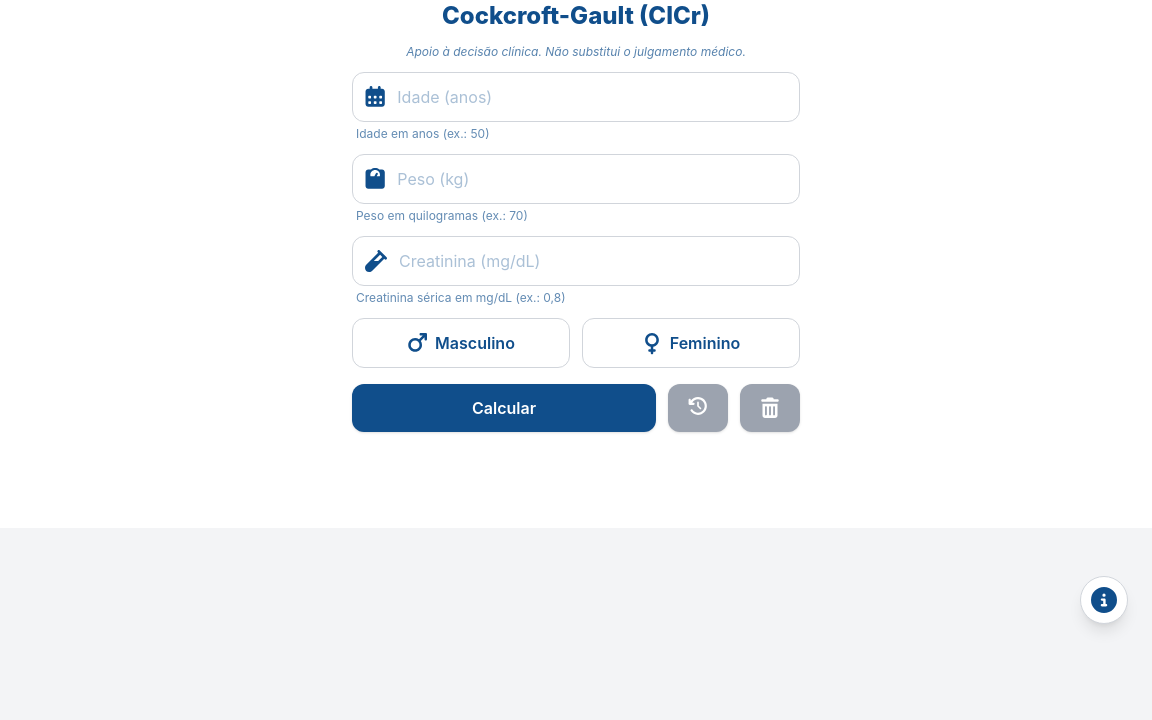
Test: Cockcroft-Gault (interface) › CG-2: menor de 18 anos calcula e mostra o aviso
Type "10" into the field with placeholder "Idade (anos)" at (592, 97), box [397,73,787,121]
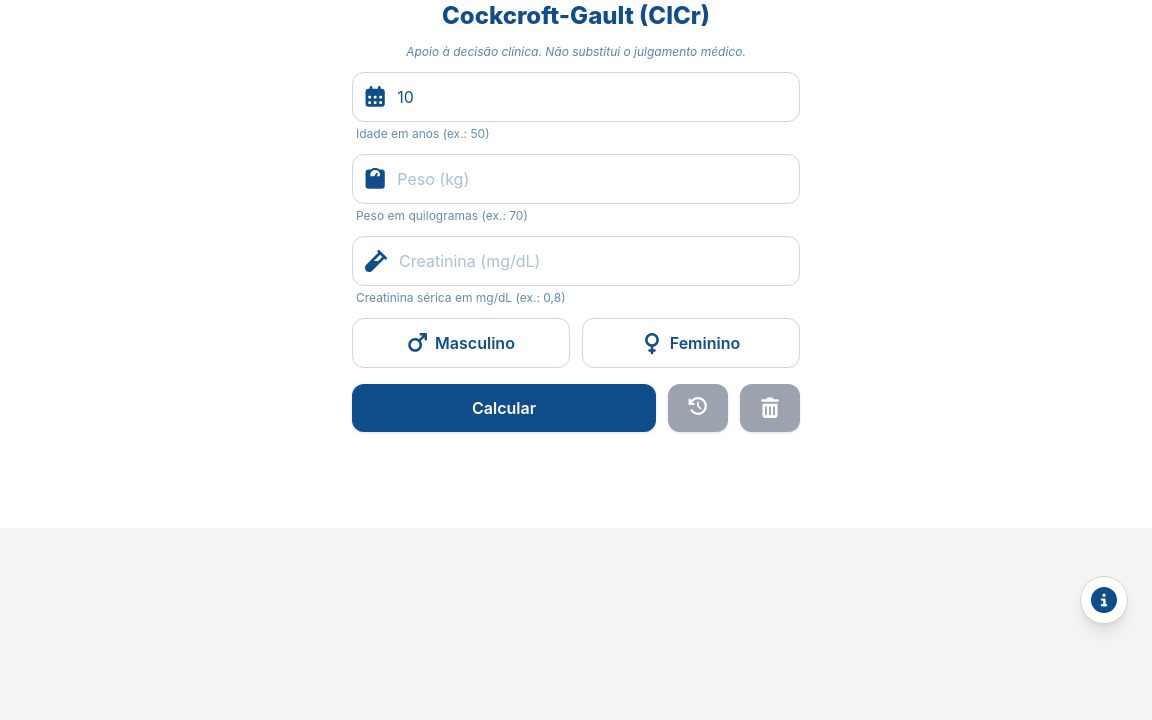
Type "30" into the field with placeholder "Peso (kg)" at (592, 179), box [397,155,787,203]
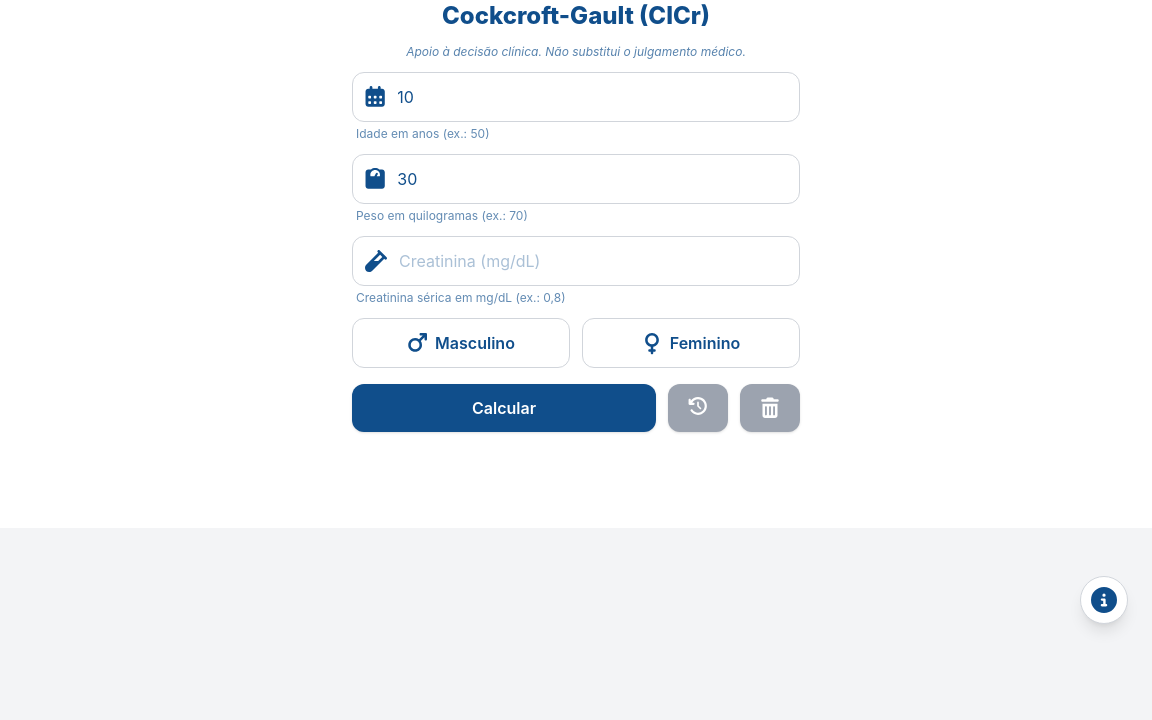
Type "0.6" into the field with placeholder "Creatinina (mg/dL)" at (593, 261), box [399,237,787,285]
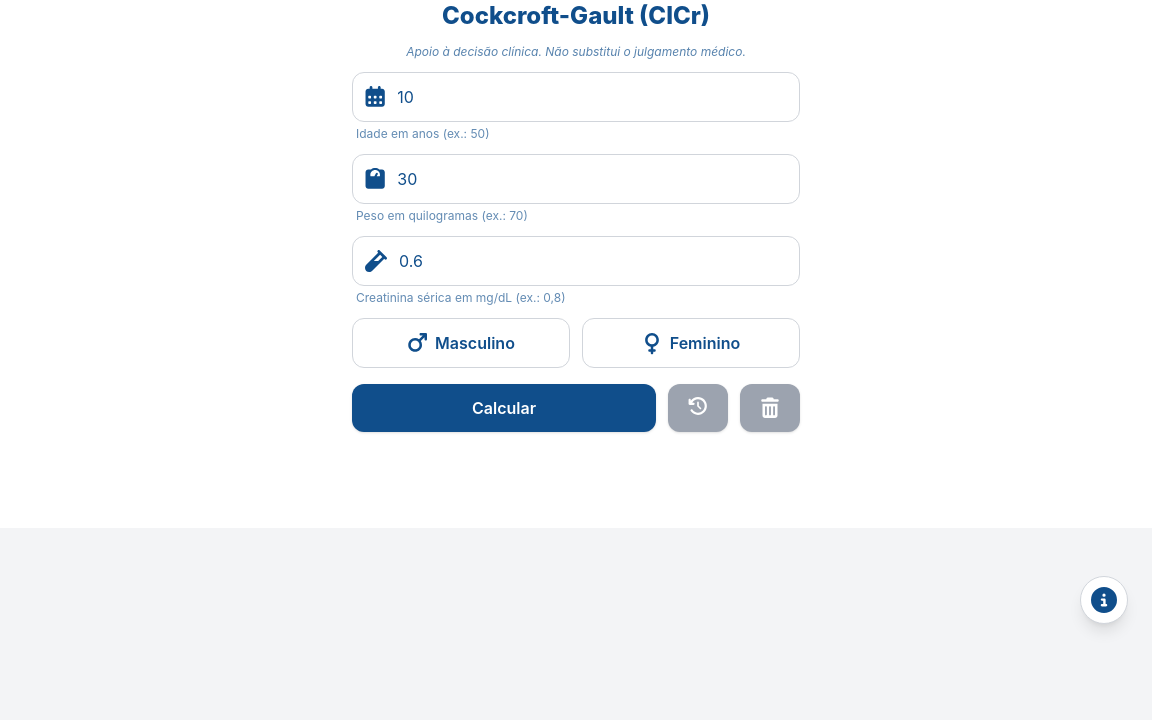
Click the button "Masculino" at (461, 343), box [352,318,570,368]
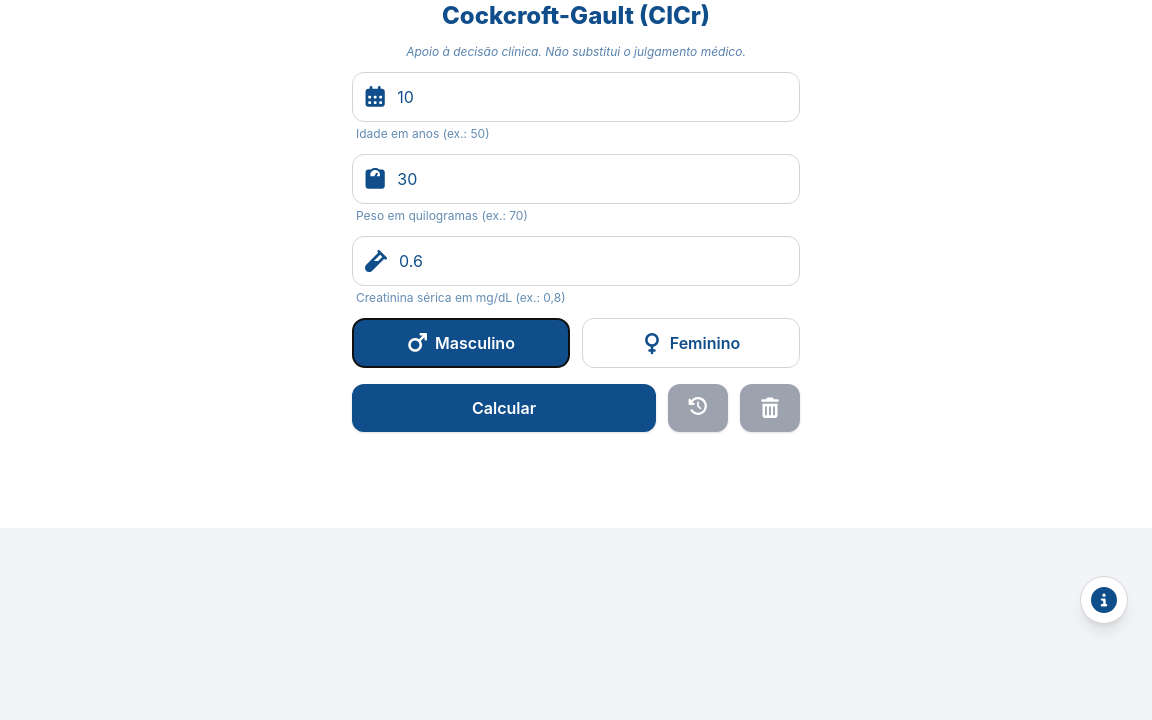
Click the button "Calcular" at (504, 408), box [352,384,656,432]
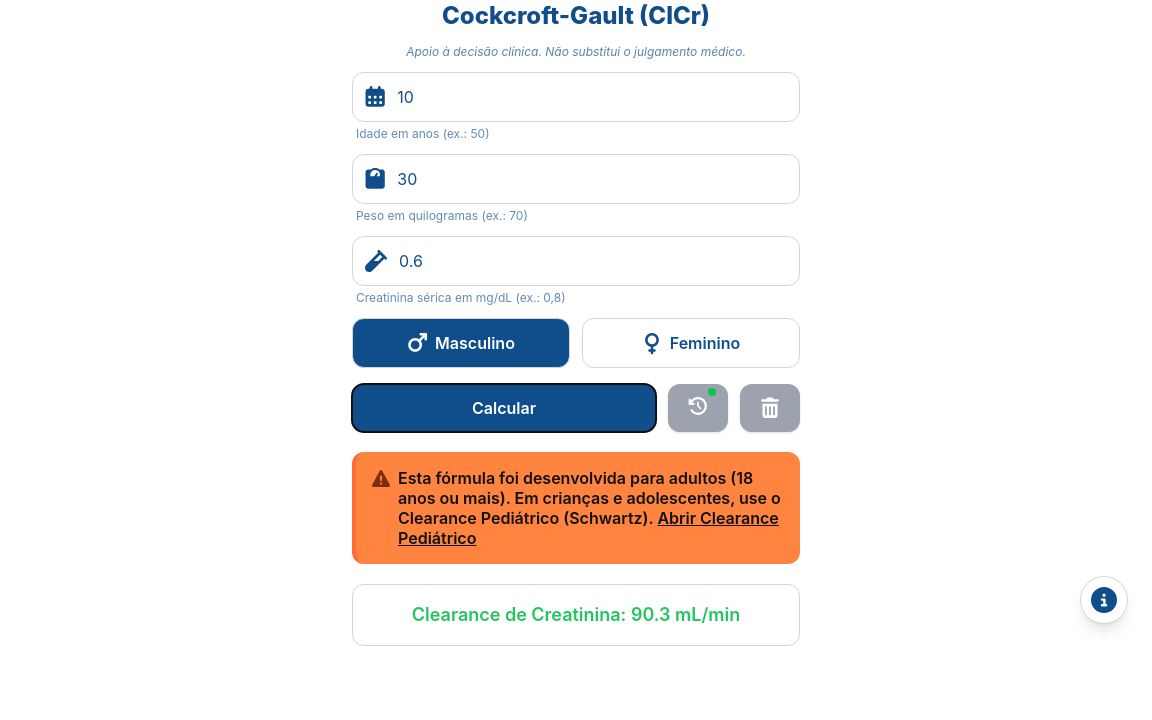
expect the 1st message shows "adultos (18 anos ou mais)": met, box [398,468,781,528]
expect the message "Clearance de Creatinina: 90.3 mL/min" is shown: met, box [352,584,800,646]
